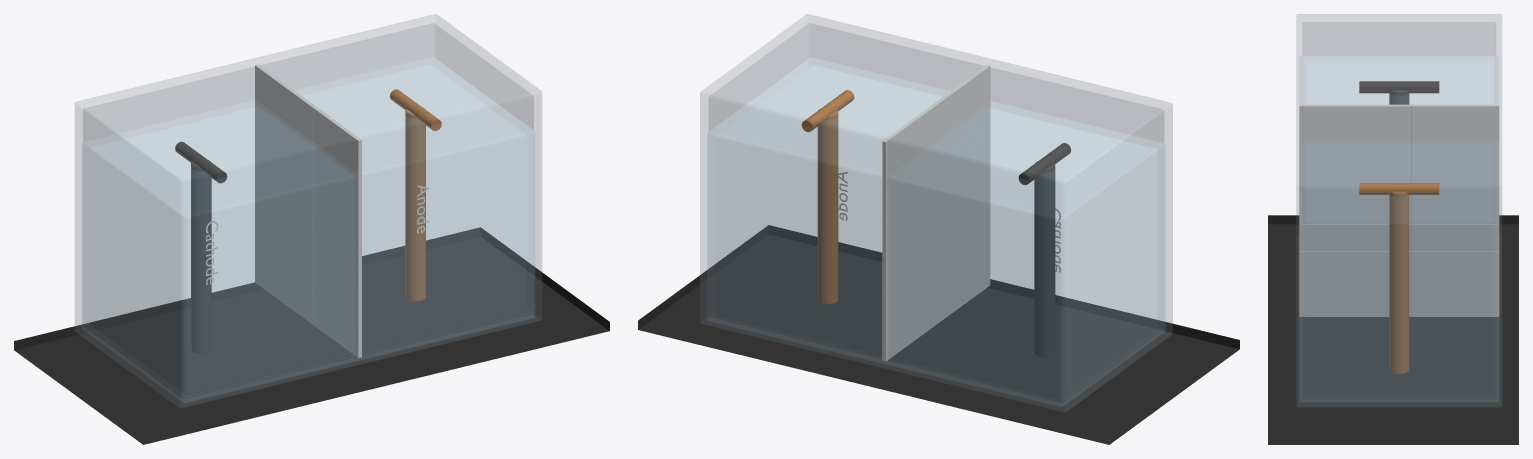
File: Tank.fbx
3 views of the same model, side by side, from view 1: azimuth 30°, elevation 25°; view 2: azimuth 150°, elevation 25°; view 3: azimuth 270°, elevation 25° (orthographic). The views are drawn at different scales.
Parts seen in each view (by area): view 1: Tank_Shell, Water_Volume, Table_Surface, Membrane_Mesh, Electrode_Cathode, Electrode_Anode, Terminal_Cathode, Terminal_Anode; view 2: Tank_Shell, Water_Volume, Table_Surface, Membrane_Mesh, Electrode_Anode, Electrode_Cathode, Terminal_Anode, Terminal_Cathode; view 3: Tank_Shell, Water_Volume, Membrane_Mesh, Table_Surface, Electrode_Anode, Terminal_Cathode, Terminal_Anode, Electrode_Cathode.
Part boxes in pixels (x1,y1,x2,y2): Tank_Shell: [75, 14, 541, 408]; Water_Volume: [82, 60, 534, 402]; Table_Surface: [14, 227, 609, 444]; Membrane_Mesh: [255, 64, 361, 357]; Electrode_Cathode: [191, 160, 211, 353]; Electrode_Anode: [405, 108, 425, 301]; Terminal_Cathode: [175, 141, 227, 183]; Terminal_Anode: [389, 89, 441, 130]; Tank_Shell: [700, 14, 1172, 412]; Water_Volume: [708, 60, 1164, 406]; Table_Surface: [638, 225, 1239, 444]; Membrane_Mesh: [882, 65, 990, 361]; Electrode_Anode: [817, 109, 838, 304]; Electrode_Cathode: [1034, 161, 1055, 357]; Terminal_Anode: [801, 90, 854, 132]; Terminal_Cathode: [1018, 143, 1070, 184]; Tank_Shell: [1296, 14, 1501, 407]; Water_Volume: [1300, 56, 1498, 401]; Membrane_Mesh: [1299, 104, 1499, 316]; Table_Surface: [1268, 215, 1518, 444]; Electrode_Anode: [1389, 191, 1409, 374]; Terminal_Cathode: [1359, 81, 1439, 93]; Terminal_Anode: [1359, 183, 1439, 194]; Electrode_Cathode: [1389, 90, 1409, 104].
Size of what is drawn, in the model's own units: 522 by 259 by 250.
